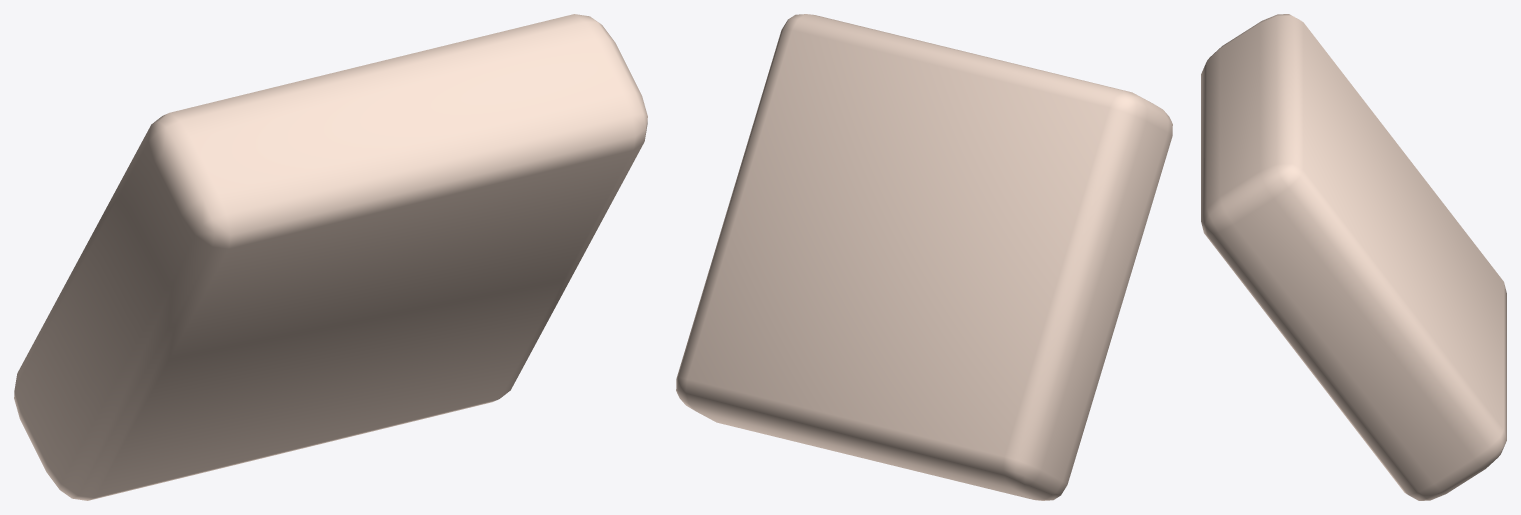
The model's file is Camera-Collection.fbx.
3 views of the same model, side by side, from view 1: azimuth 30°, elevation 25°; view 2: azimuth 150°, elevation 25°; view 3: azimuth 270°, elevation 25° (orthographic). The views are drawn at different scales.
Visible parts, largest first — view 1: Cube Shop; view 2: Cube Shop; view 3: Cube Shop.
Part boxes in pixels (x1,y1,x2,y2): Cube Shop: [14, 14, 647, 500]; Cube Shop: [676, 14, 1172, 500]; Cube Shop: [1201, 14, 1506, 500].
Size of the model in its own units: 4.25 by 3.96 by 3.27.
1 material, 1 textured.
